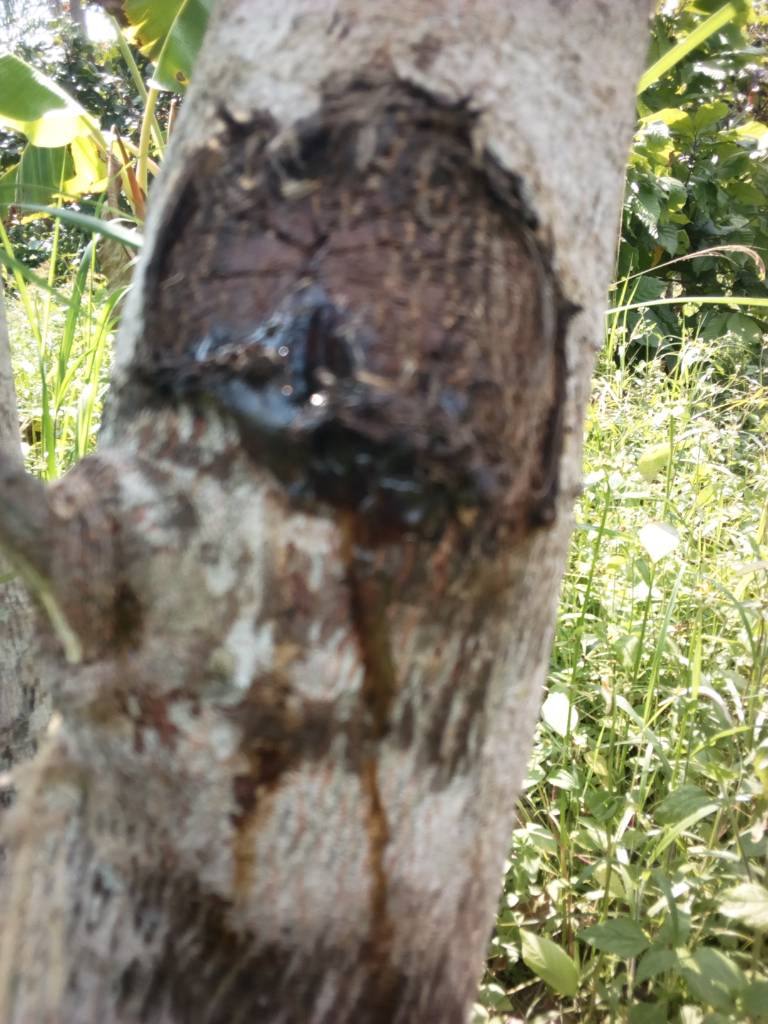Mecocorynus longiceps: (166, 283, 536, 597)
